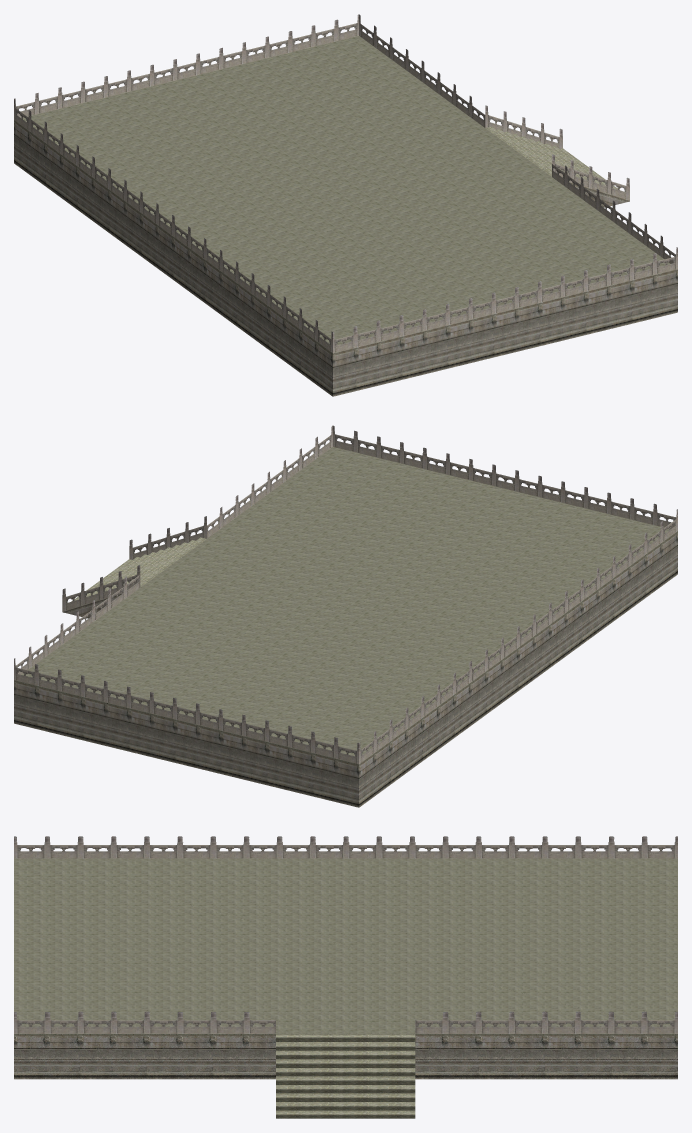
Rendered from cj_pal_side_dan.glb.
3 renders of one model, top to bottom at view 1: azimuth 30°, elevation 25°; view 2: azimuth 150°, elevation 25°; view 3: azimuth 270°, elevation 25°, orthographic. The views are drawn at different scales.
Parts seen in each view (by area): view 1: CJ_pal_side_dan_floor01, CJ_pal_side_dan_wall, CJ_pal_side_dan_fence, CJ_pal_side_dan_floor02; view 2: CJ_pal_side_dan_floor01, CJ_pal_side_dan_wall, CJ_pal_side_dan_fence, CJ_pal_side_dan_floor02; view 3: CJ_pal_side_dan_floor01, CJ_pal_side_dan_wall, CJ_pal_side_dan_fence, CJ_pal_side_dan_floor02.
Part boxes in pixels (x1=…): CJ_pal_side_dan_floor01: x1=14, y1=36, x2=670, y2=354; CJ_pal_side_dan_wall: x1=14, y1=121, x2=677, y2=396; CJ_pal_side_dan_fence: x1=14, y1=14, x2=677, y2=353; CJ_pal_side_dan_floor02: x1=485, y1=126, x2=617, y2=189; CJ_pal_side_dan_floor01: x1=14, y1=447, x2=677, y2=765; CJ_pal_side_dan_wall: x1=14, y1=532, x2=677, y2=807; CJ_pal_side_dan_fence: x1=14, y1=425, x2=677, y2=764; CJ_pal_side_dan_floor02: x1=71, y1=537, x2=206, y2=601; CJ_pal_side_dan_floor01: x1=14, y1=858, x2=677, y2=1035; CJ_pal_side_dan_wall: x1=14, y1=1035, x2=677, y2=1079; CJ_pal_side_dan_fence: x1=14, y1=836, x2=677, y2=1033; CJ_pal_side_dan_floor02: x1=276, y1=1034, x2=415, y2=1118.
Size of the model in its own units: 30.63 by 4.59 by 40.
Materials: 4 (4 with a texture image).
